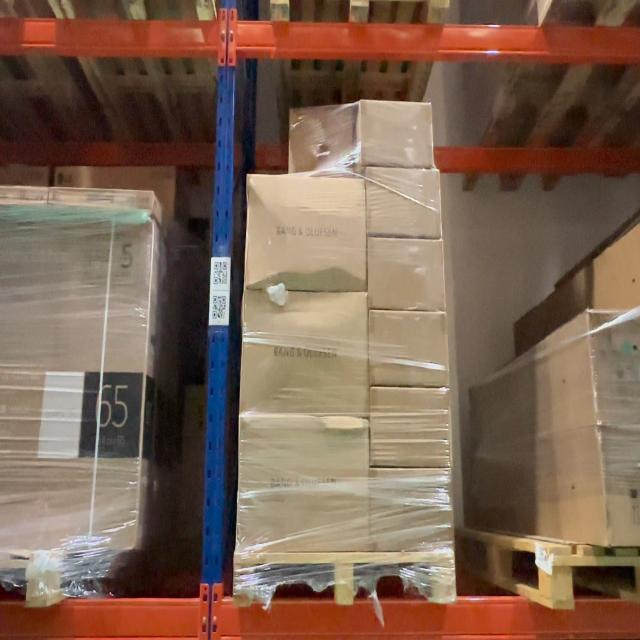box: (238, 421, 368, 551), (244, 294, 366, 414), (248, 179, 364, 287), (372, 470, 452, 550), (372, 390, 450, 467), (371, 316, 445, 386), (370, 240, 443, 308), (363, 101, 433, 166), (367, 172, 438, 236), (291, 110, 356, 174)
